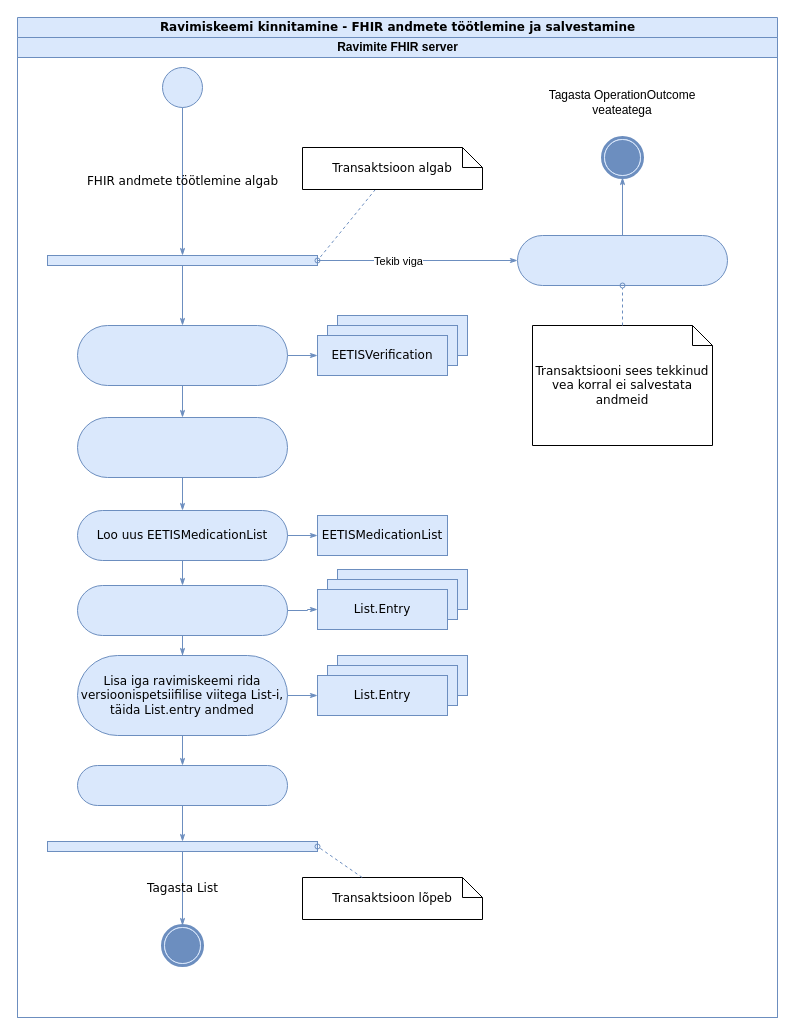
The diagram is 795 pixels wide and 1035 high, and some of its shapes have lost their labels. Each missing label, with the centre of its shape:
Leia ja lisa consolidated read List.Entry-dena: the point at 182,610
Loo igale prescribed, ceased, changed reale EETISVerification: the point at 182,355
Rollback transaction + VIGA: the point at 622,260
Salvesta List: the point at 182,785
Salvesta muutunud read ja leia kõikidele ridadele versioonispetsiifilised viited: the point at 182,447
